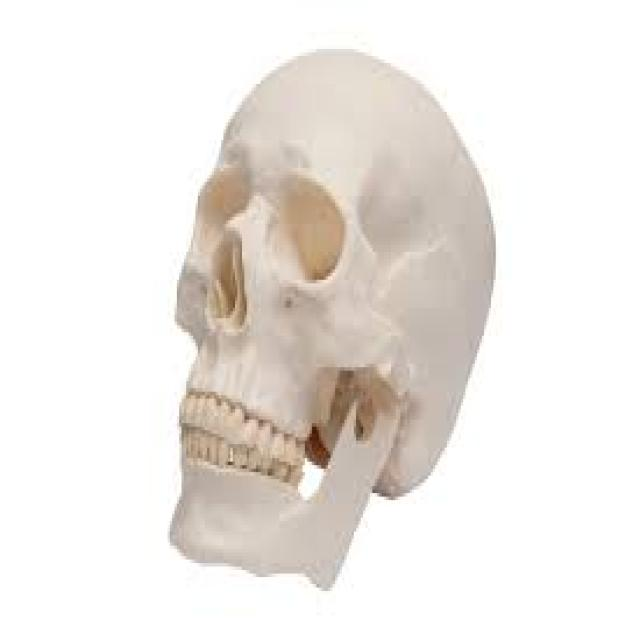skull: (162, 41, 509, 589)
